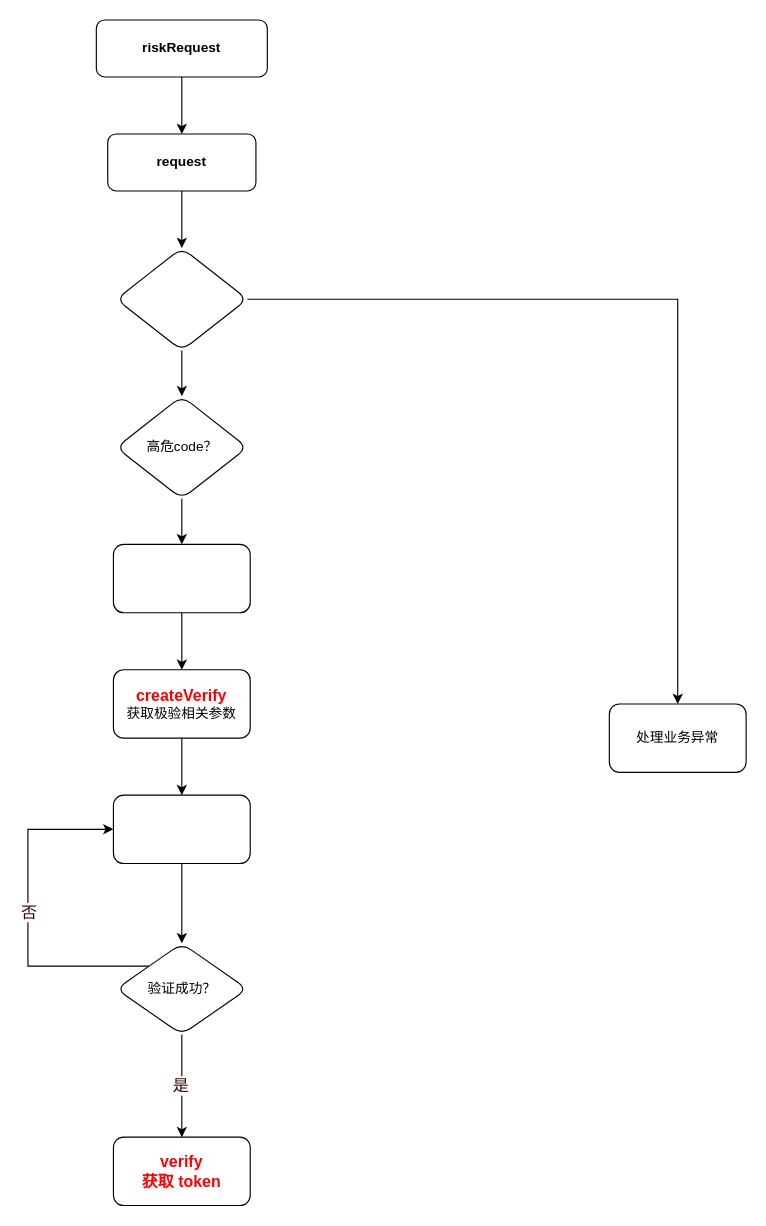
This 766x1226 diagram has some shape labels left out. Here are the shapes that lost their labels. From the top down, the box of each, then its label:
(115, 247, 247, 351): riskCode?
(112, 543, 250, 613): initGeet
(112, 794, 250, 864): 极验弹窗
